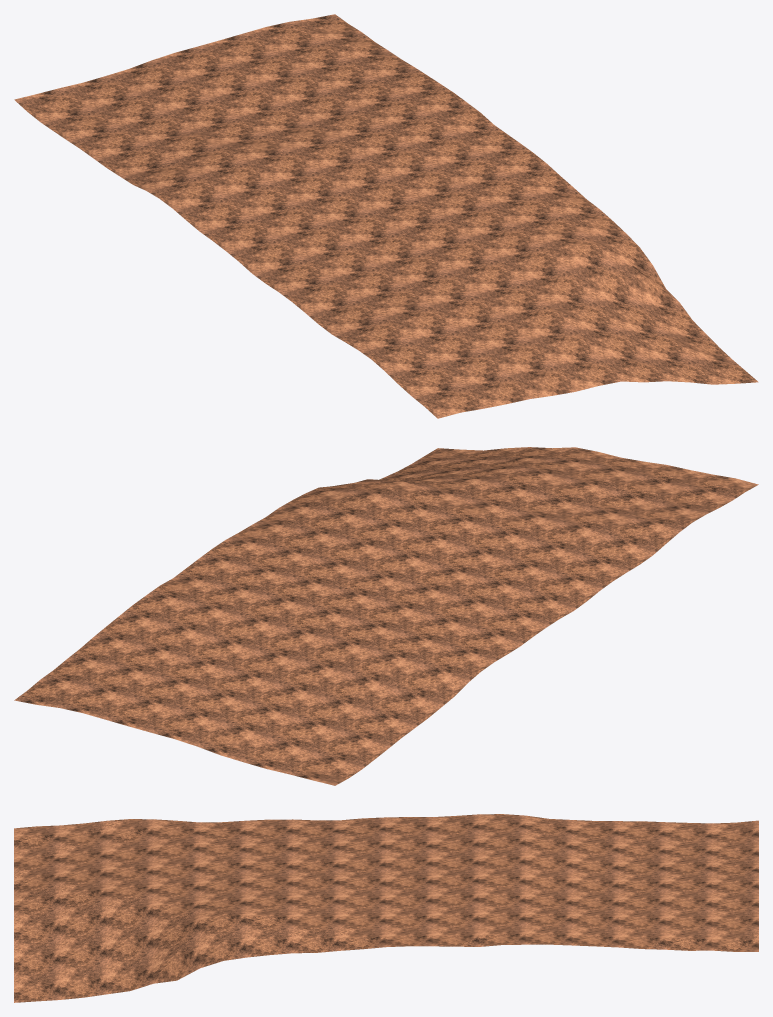
File: terrain_05_23.dae
3 renders of one model, top to bottom at view 1: azimuth 30°, elevation 25°; view 2: azimuth 150°, elevation 25°; view 3: azimuth 270°, elevation 25°, orthographic. The views are drawn at different scales.
Parts seen in each view (by area): view 1: terrain_05_23-node; view 2: terrain_05_23-node; view 3: terrain_05_23-node.
Boxes of the visible parts, x1,y1,x2,y2 form: terrain_05_23-node: (14, 14, 758, 418); terrain_05_23-node: (14, 447, 758, 785); terrain_05_23-node: (14, 814, 758, 1002).
Bounding box in the file's own units: 56 × 128 × 11.15.
Materials: 1 (1 with a texture image).
